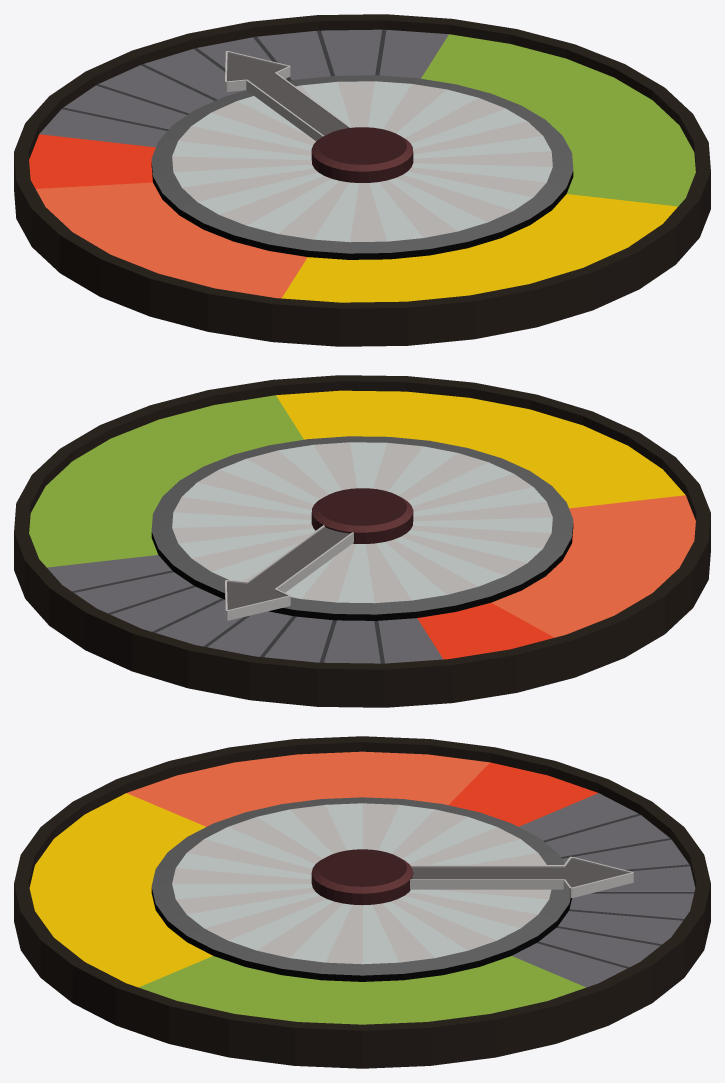
File: Countdown_Timer.glb
The picture shows the model from 3 angles, top to bottom: view 1: azimuth 30°, elevation 25°; view 2: azimuth 150°, elevation 25°; view 3: azimuth 270°, elevation 25°; orthographic projection.
Visible parts, largest first — view 1: Disc, Pointer; view 2: Disc, Pointer; view 3: Disc, Pointer.
Part boxes in pixels (bbox=[...]): Disc: bbox=[14, 14, 710, 346]; Pointer: bbox=[225, 51, 413, 182]; Disc: bbox=[14, 375, 710, 707]; Pointer: bbox=[225, 488, 413, 620]; Disc: bbox=[14, 736, 710, 1068]; Pointer: bbox=[311, 849, 633, 905].
Size of what is drawn, in the model's own units: 2 by 0.169 by 2.
1 material, 1 textured.
